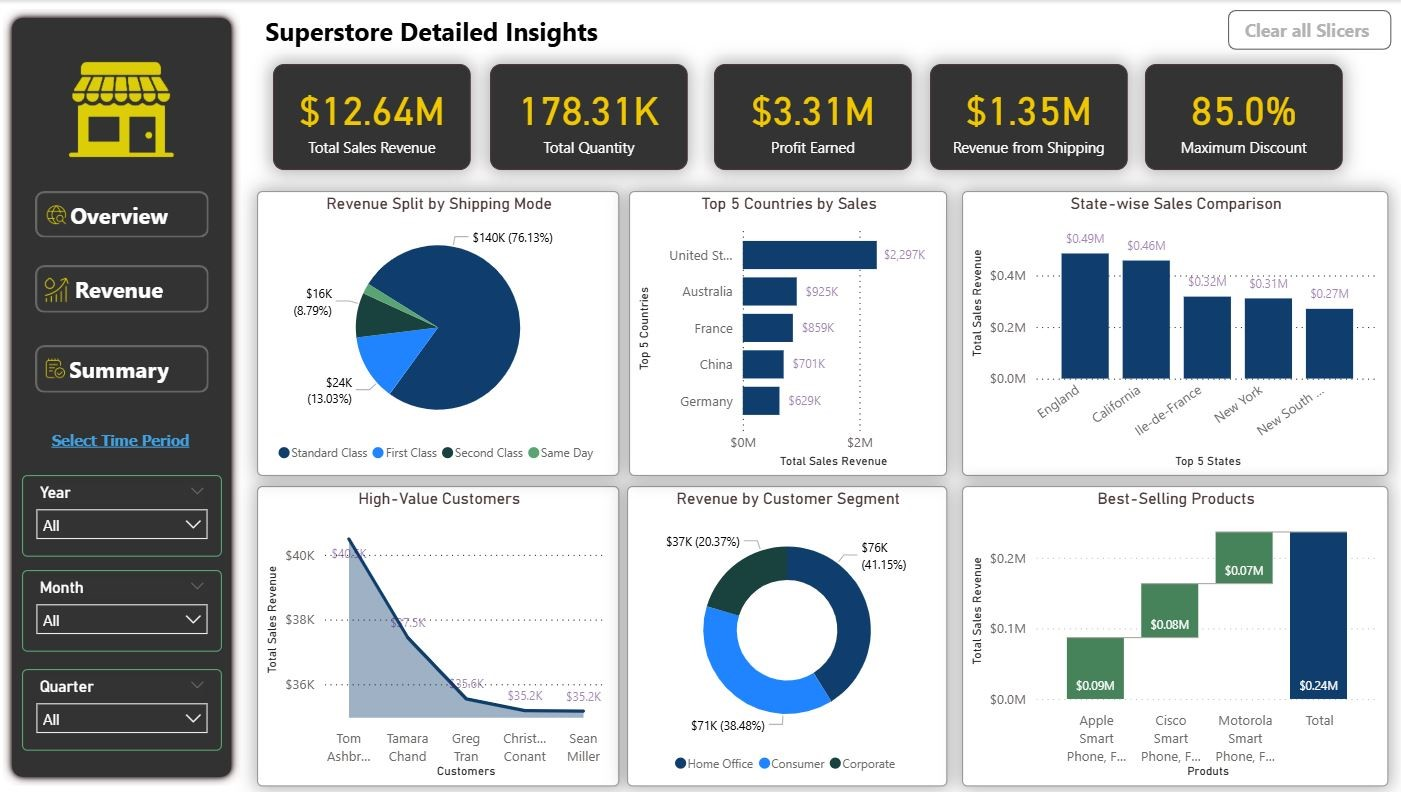

This screenshot's page, from the dashboard's own definition file:
{"tool":"powerbi","page":{"name":"Superstore Detailed Insights","canvas":[1280,720],"ordinal":1},"visuals":[{"type":"card","fields":{"Values":["Sum(Superstore_Sales.sales)"]},"box":[258.8,58,179,96.3],"z":0},{"type":"shape","box":[14.6,7.8,215,703.2],"z":1000},{"type":"card","fields":{"Values":["Sum(Superstore_Sales.quantity)"]},"box":[455.3,58,179,96.3],"z":2000},{"type":"card","fields":{"Values":["Sum(Superstore_Sales.profit)"]},"box":[658.6,58,179,96.3],"z":3000},{"type":"card","fields":{"Values":["Sum(Superstore_Sales.shipping_cost)"]},"box":[854.1,58,179,96.3],"z":4000},{"type":"card","fields":{"Values":["Max(Superstore_Sales.discount)"]},"box":[1048.6,58,179,96.3],"z":5000},{"type":"areaChart","title":"High-Value Customers","fields":{"Category":["Superstore_Sales.customer_name"],"Y":["Sum(Superstore_Sales.sales)"]},"box":[244.8,439.7,327.7,271.8],"z":6000},{"type":"pieChart","title":"Revenue Split by Shipping Mode","fields":{"Y":["Sum(Superstore_Sales.sales)"],"Category":["Superstore_Sales.ship_mode"]},"box":[244.8,172.9,327.7,257.8],"z":7000},{"type":"donutChart","title":"Revenue by Customer Segment","fields":{"Y":["Sum(Superstore_Sales.sales)"],"Category":["Superstore_Sales.segment"]},"box":[579.5,439.7,289.8,271.8],"z":8000},{"type":"barChart","title":"Top 5 Countries by Sales","fields":{"Y":["Sum(Superstore_Sales.sales)"],"Category":["Superstore_Sales.country"]},"box":[581.5,172.9,287.8,257.8],"z":9000},{"type":"columnChart","title":"State-wise Sales Comparison","fields":{"Category":["Superstore_Sales.state"],"Y":["Sum(Superstore_Sales.sales)"]},"box":[882.3,172.9,385.7,257.8],"z":10000},{"type":"waterfallChart","title":"Best-Selling Products","fields":{"Category":["Superstore_Sales.product_name"],"Y":["Sum(Superstore_Sales.sales)"]},"box":[882.3,439.7,385.7,271.8],"z":11000},{"type":"actionButton","box":[245.1,7.8,314.2,38.9],"z":12000},{"type":"image","box":[56.5,44.4,130.2,109],"z":13000},{"type":"shape","box":[43.4,311.9,157.5,43.4],"z":14000},{"type":"shape","box":[43.4,240.3,157.5,43.4],"z":15000},{"type":"shape","box":[43.4,172.6,157.5,42.4],"z":16000},{"type":"image","box":[47.4,179.7,32.3,32.3],"z":17000},{"type":"image","box":[43.4,245.3,37.4,35.3],"z":18000},{"type":"image","box":[45.4,316,31.3,35.3],"z":19000},{"type":"shape","box":[1123.1,9,147.9,36],"z":20000},{"type":"slicer","fields":{"Values":["Date Table.Quarter"]},"box":[31.3,605.7,180.7,73.7],"z":21000},{"type":"slicer","fields":{"Values":["Date Table.Year"]},"box":[31.3,430,180.7,73.7],"z":22000},{"type":"slicer","fields":{"Values":["Date Table.Month"]},"box":[31.3,515.8,180.7,73.7],"z":23000},{"type":"actionButton","box":[43.5,379.3,154.8,38.9],"z":24000}]}

Visuals, with their boxes in screenshot pixels (x1, y1, x2, y2), scaled from the page's 1280x720 canvas onto the 1401x792 screenshot:
card - Sum(Superstore_Sales.sales): (left=283, top=64, right=479, bottom=170)
shape: (left=16, top=9, right=251, bottom=782)
card - Sum(Superstore_Sales.quantity): (left=498, top=64, right=694, bottom=170)
card - Sum(Superstore_Sales.profit): (left=721, top=64, right=917, bottom=170)
card - Sum(Superstore_Sales.shipping_cost): (left=935, top=64, right=1131, bottom=170)
card - Max(Superstore_Sales.discount): (left=1148, top=64, right=1344, bottom=170)
"High-Value Customers" areaChart: (left=268, top=484, right=627, bottom=783)
"Revenue Split by Shipping Mode" pieChart: (left=268, top=190, right=627, bottom=474)
"Revenue by Customer Segment" donutChart: (left=634, top=484, right=951, bottom=783)
"Top 5 Countries by Sales" barChart: (left=636, top=190, right=951, bottom=474)
"State-wise Sales Comparison" columnChart: (left=966, top=190, right=1388, bottom=474)
"Best-Selling Products" waterfallChart: (left=966, top=484, right=1388, bottom=783)
actionButton: (left=268, top=9, right=612, bottom=51)
image: (left=62, top=49, right=204, bottom=169)
shape: (left=48, top=343, right=220, bottom=391)
shape: (left=48, top=264, right=220, bottom=312)
shape: (left=48, top=190, right=220, bottom=237)
image: (left=52, top=198, right=87, bottom=233)
image: (left=48, top=270, right=88, bottom=309)
image: (left=50, top=348, right=84, bottom=386)
shape: (left=1229, top=10, right=1391, bottom=50)
slicer - Date Table.Quarter: (left=34, top=666, right=232, bottom=747)
slicer - Date Table.Year: (left=34, top=473, right=232, bottom=554)
slicer - Date Table.Month: (left=34, top=567, right=232, bottom=648)
actionButton: (left=48, top=417, right=217, bottom=460)
